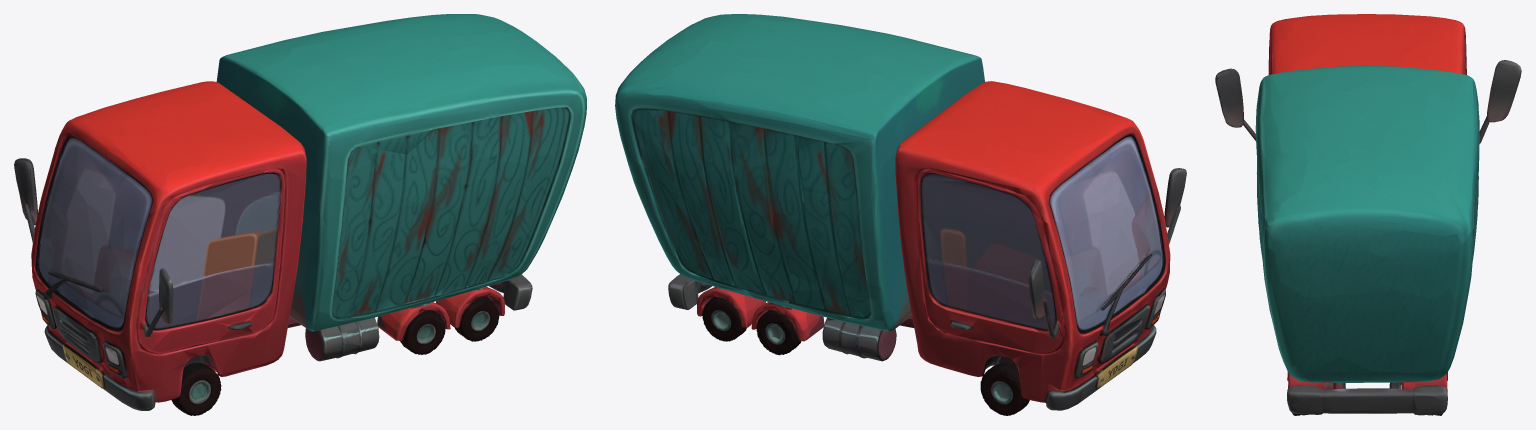
The model's file is AI_Truck.fbx.
3 renders of one model, left to right at view 1: azimuth 30°, elevation 25°; view 2: azimuth 150°, elevation 25°; view 3: azimuth 270°, elevation 25°, orthographic.
Parts seen in each view (by area): view 1: Mesh_0; view 2: Mesh_0; view 3: Mesh_0.
Part boxes in pixels (left/top/right/bottom): Mesh_0: left=14, top=14, right=586, bottom=415; Mesh_0: left=615, top=14, right=1186, bottom=415; Mesh_0: left=1215, top=14, right=1521, bottom=415.
Bounding box in the file's own units: 190 × 106 × 108.
